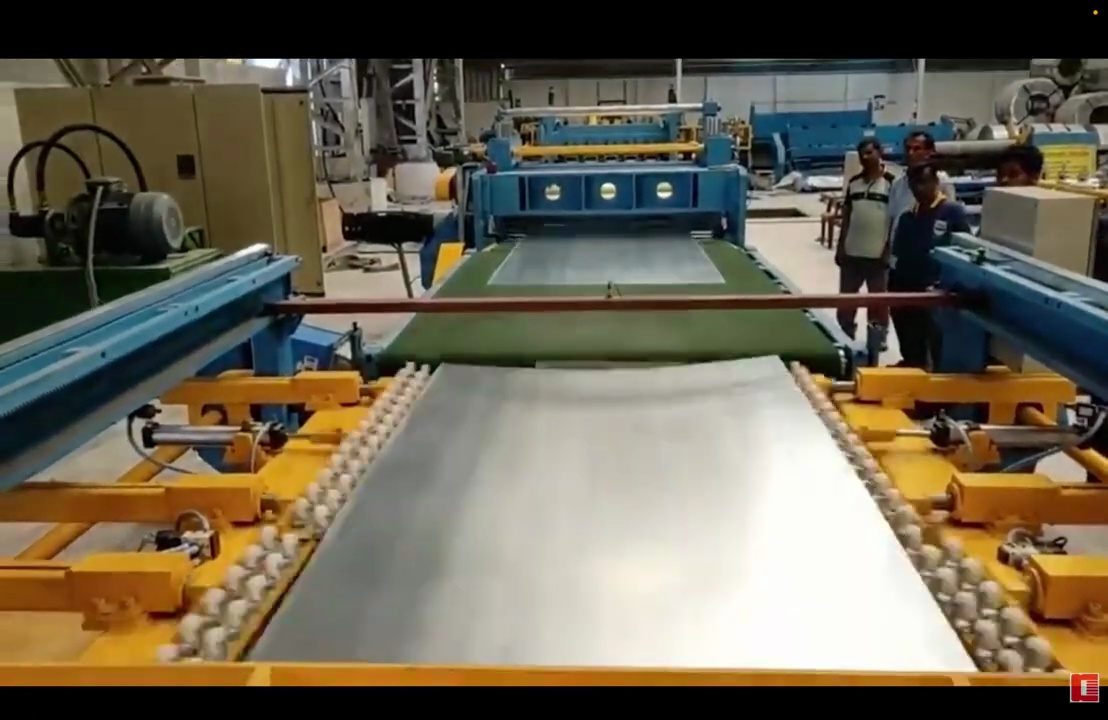steel plate: (252, 358, 974, 671), (489, 236, 723, 285)
